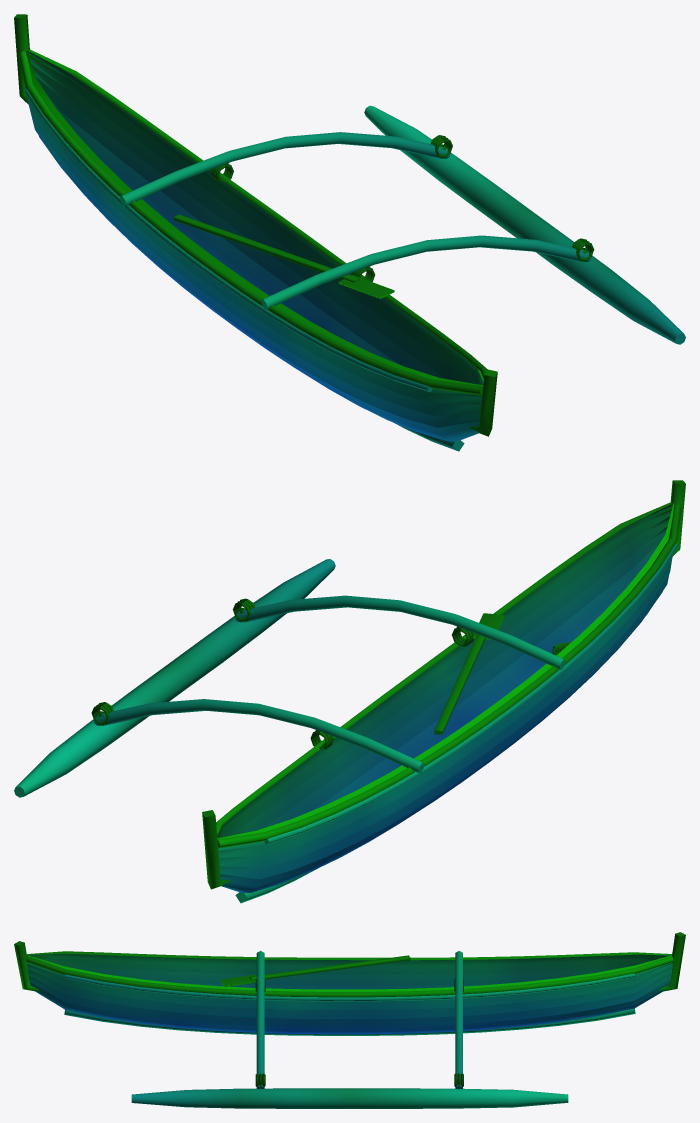
Rendered from hull_outrigger.glb.
The picture shows the model from 3 angles, top to bottom: view 1: azimuth 30°, elevation 25°; view 2: azimuth 150°, elevation 25°; view 3: azimuth 270°, elevation 25°; orthographic projection. The views are drawn at different scales.
Visible parts, largest first — view 1: hull_outrigger; view 2: hull_outrigger; view 3: hull_outrigger.
Boxes of the visible parts, box(x1,y1,x2,y2) form: hull_outrigger: box(14, 14, 685, 451); hull_outrigger: box(14, 480, 685, 903); hull_outrigger: box(14, 932, 685, 1108).
Size of what is drawn, in the model's own units: 2.77 by 1.14 by 6.77.
